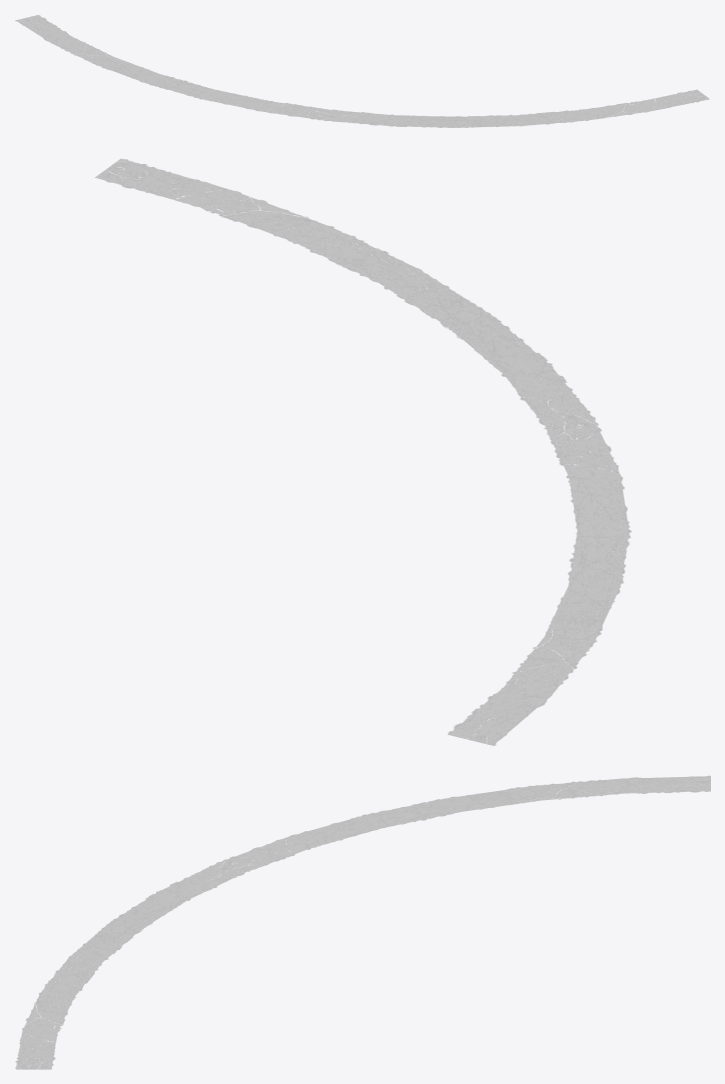
Rendered from Sidewalk_Corner_Round_3m_Stripe.glb.
3 views of the same model, one above another, from view 1: azimuth 30°, elevation 25°; view 2: azimuth 150°, elevation 25°; view 3: azimuth 270°, elevation 25° (orthographic). The views are drawn at different scales.
Visible parts, largest first — view 1: Sidewalk_Corner_Round_3m_Stripe; view 2: Sidewalk_Corner_Round_3m_Stripe; view 3: Sidewalk_Corner_Round_3m_Stripe.
Boxes of the visible parts, left/top/right/bottom form: Sidewalk_Corner_Round_3m_Stripe: left=15, top=15, right=709, bottom=127; Sidewalk_Corner_Round_3m_Stripe: left=95, top=159, right=631, bottom=745; Sidewalk_Corner_Round_3m_Stripe: left=15, top=776, right=710, bottom=1069.
Bounding box in the file's own units: 3.4 × 0 × 3.4.
Materials: 1 (1 with a texture image).
